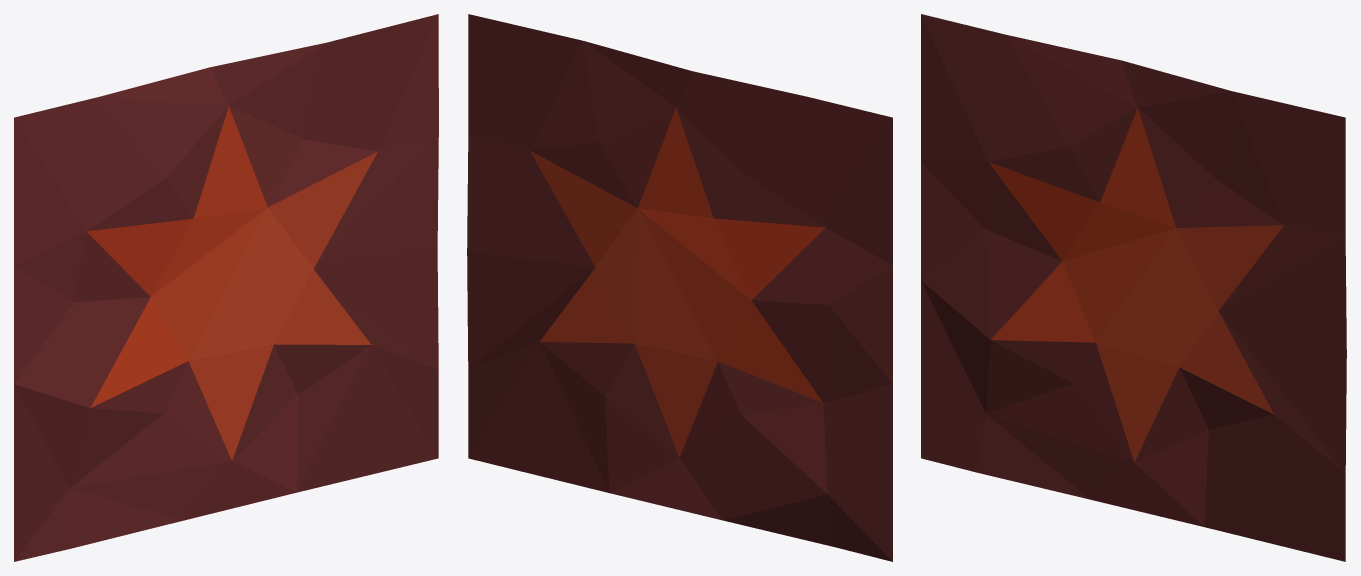
File: Prop_FlagA.fbx
The picture shows the model from 3 angles, left to right: view 1: azimuth 30°, elevation 25°; view 2: azimuth 150°, elevation 25°; view 3: azimuth 330°, elevation 25°; orthographic projection.
Parts seen in each view (by area): view 1: Prop_FlagA; view 2: Prop_FlagA; view 3: Prop_FlagA.
Boxes of the visible parts, x1=… form: Prop_FlagA: x1=14, y1=14, x2=438, y2=561; Prop_FlagA: x1=467, y1=14, x2=892, y2=561; Prop_FlagA: x1=921, y1=14, x2=1346, y2=561.
Size of the model in its own units: 125 by 125 by 4.03.
